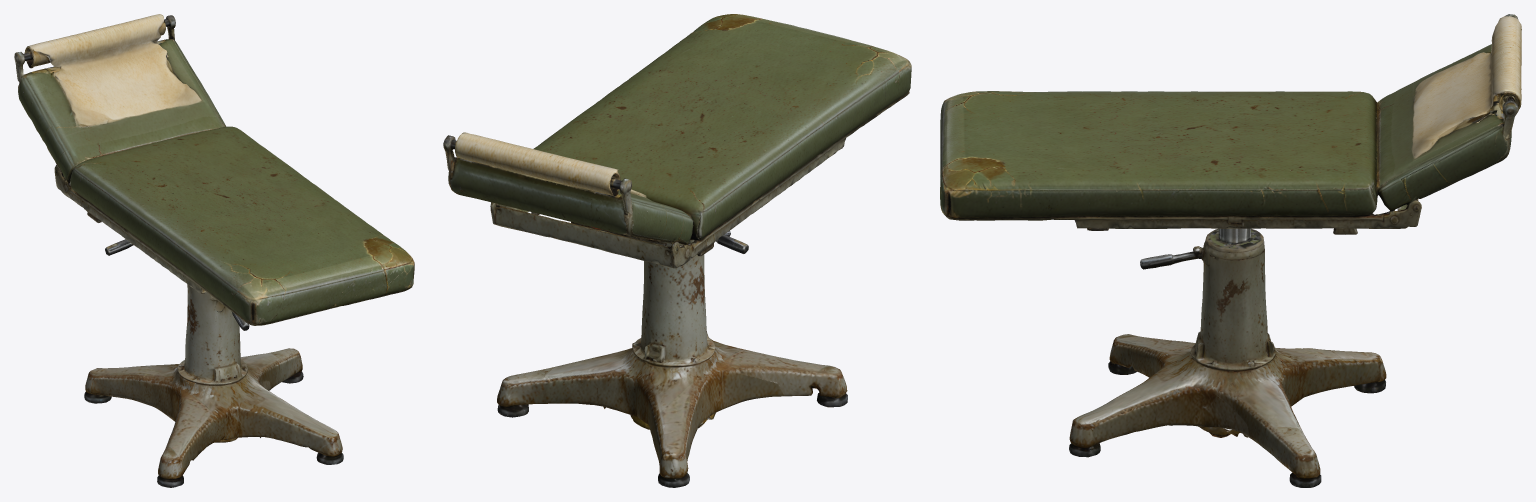
File: ExamTable.fbx
The picture shows the model from 3 angles, left to right: view 1: azimuth 30°, elevation 25°; view 2: azimuth 150°, elevation 25°; view 3: azimuth 270°, elevation 25°; orthographic projection. The views are drawn at different scales.
Parts seen in each view (by area): view 1: texture_mapping; view 2: texture_mapping; view 3: texture_mapping.
Boxes of the visible parts, left/top/right/bottom form: texture_mapping: left=14, top=14, right=414, bottom=487; texture_mapping: left=443, top=14, right=911, bottom=487; texture_mapping: left=940, top=14, right=1521, bottom=487.
Bounding box in the file's own units: 0.5123 × 0.9981 × 0.6955.
1 material, 1 textured.
